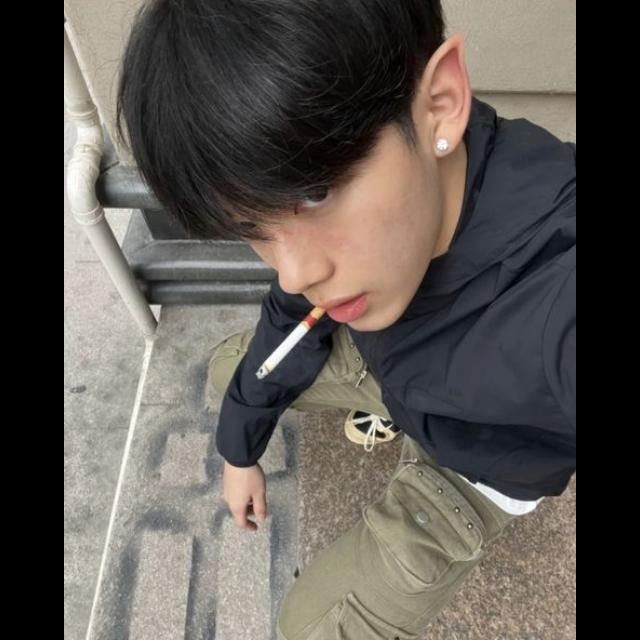rokok: (242, 298, 332, 397)
